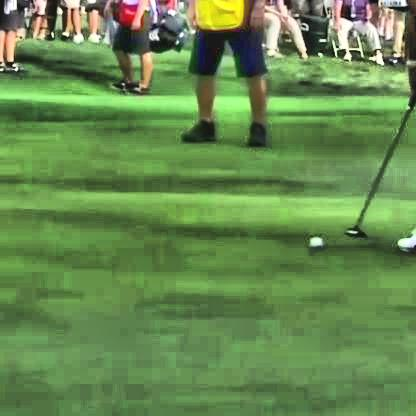golfball: (305, 235, 323, 251)
